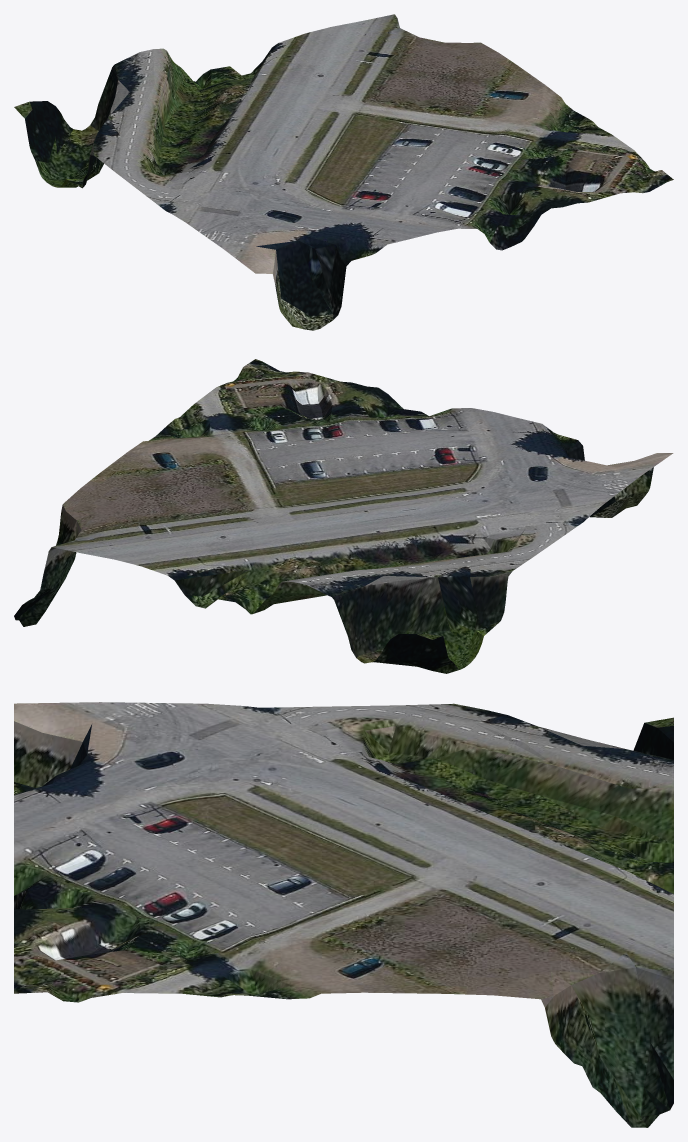
The model's file is map_15_8184_13788.dae.
3 views of the same model, one above another, from view 1: azimuth 30°, elevation 25°; view 2: azimuth 150°, elevation 25°; view 3: azimuth 270°, elevation 25° (orthographic). The views are drawn at different scales.
Parts seen in each view (by area): view 1: Ter0; view 2: Ter0; view 3: Ter0.
Part boxes in pixels (bbox=[...]): Ter0: bbox=[14, 14, 673, 330]; Ter0: bbox=[14, 359, 673, 673]; Ter0: bbox=[14, 702, 673, 1127].
Bounding box in the file's own units: 63.88 × 63.88 × 17.57.
2 materials, 2 textured.
